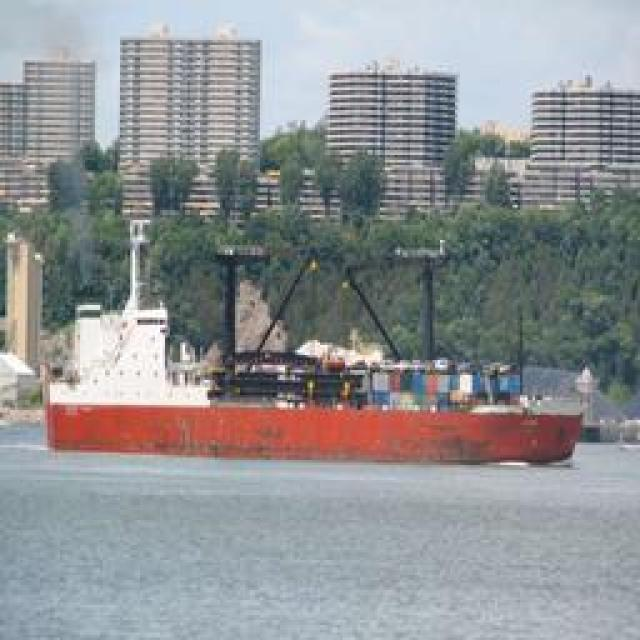ship2: (37, 199, 596, 464)
